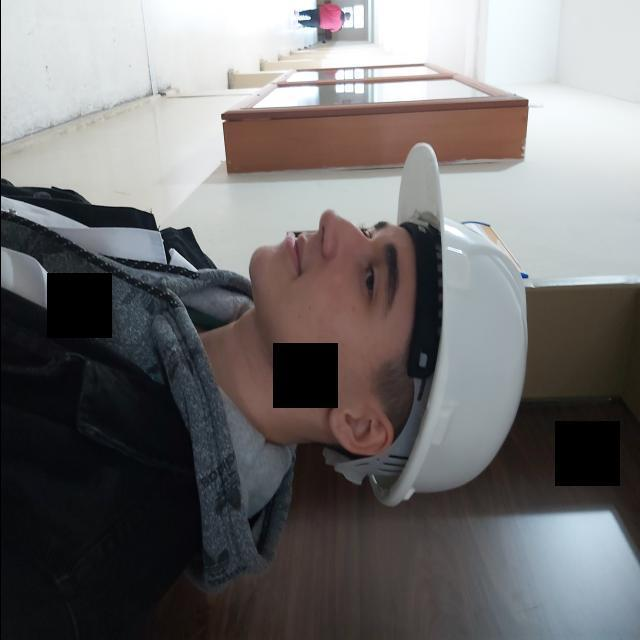helmet: (322, 141, 528, 507)
